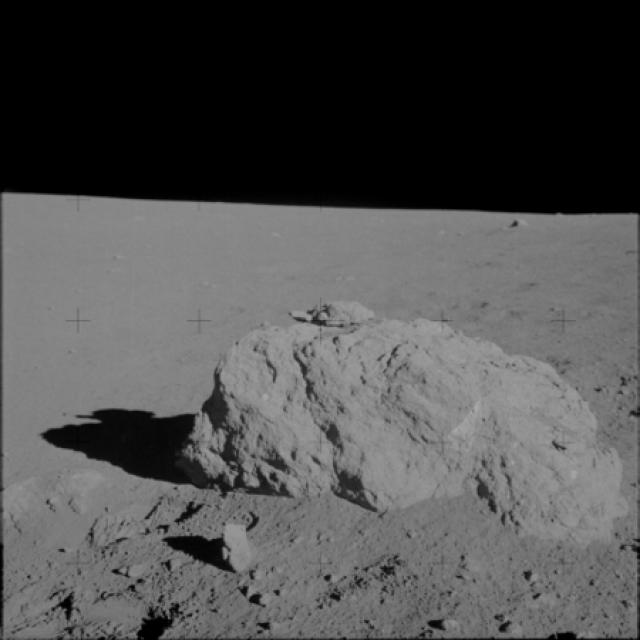rock: (154, 286, 637, 546), (0, 460, 106, 524), (206, 518, 290, 579), (35, 496, 65, 518), (73, 492, 92, 517)
